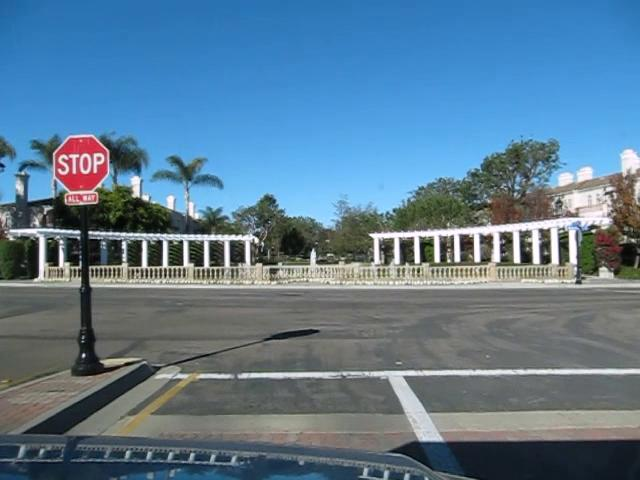stop: (52, 134, 109, 192)
